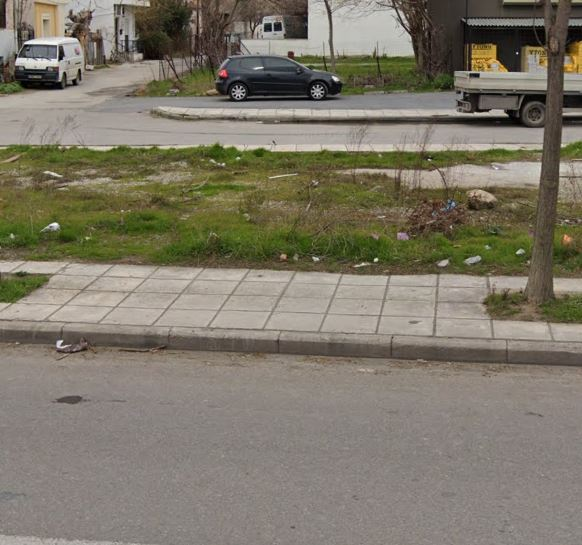trash: (431, 251, 486, 269), (53, 333, 90, 358), (271, 246, 328, 262), (36, 218, 66, 241), (432, 195, 459, 218), (393, 224, 409, 250), (560, 233, 577, 249), (512, 245, 528, 259), (42, 169, 62, 179)
